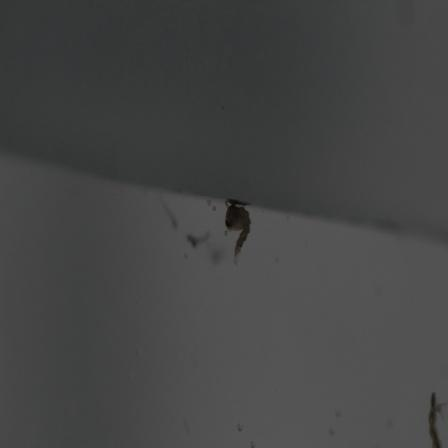Jentik-Nyamuk: (218, 199, 257, 267), (422, 389, 448, 448)
